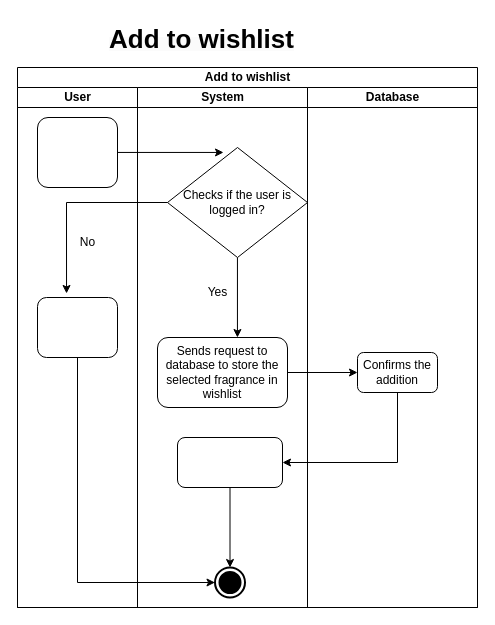
The diagram is 495 pixels wide and 625 high, and some of its shapes have lost their labels. Here are the shapes that lost their labels. From the top down, the centre of each, then its label:
the point at 77,152: Select fragrance to add to wishlist
the point at 77,327: Display a message to log into the system
the point at 229,462: Displays a sucess message to the user
